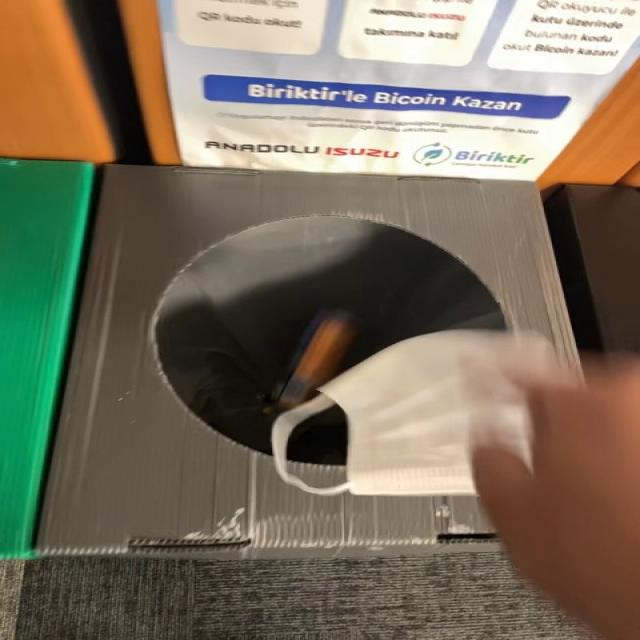bin: (4, 165, 579, 640)
metal: (279, 311, 357, 408)
